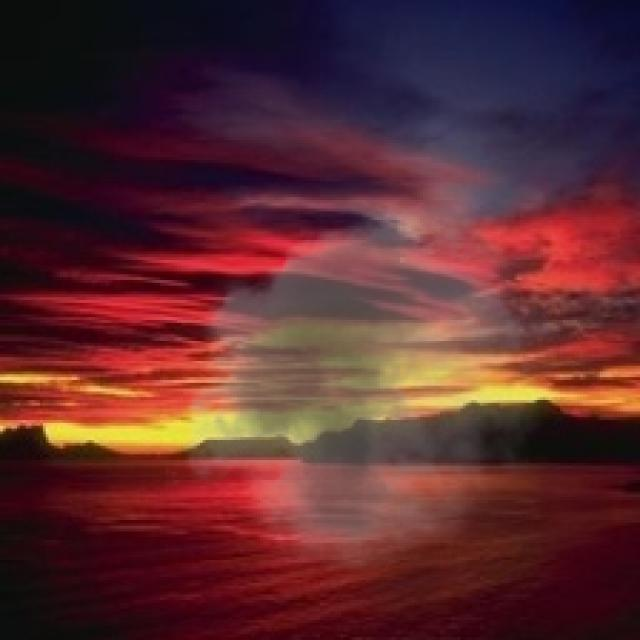smoke: (166, 197, 568, 572)
